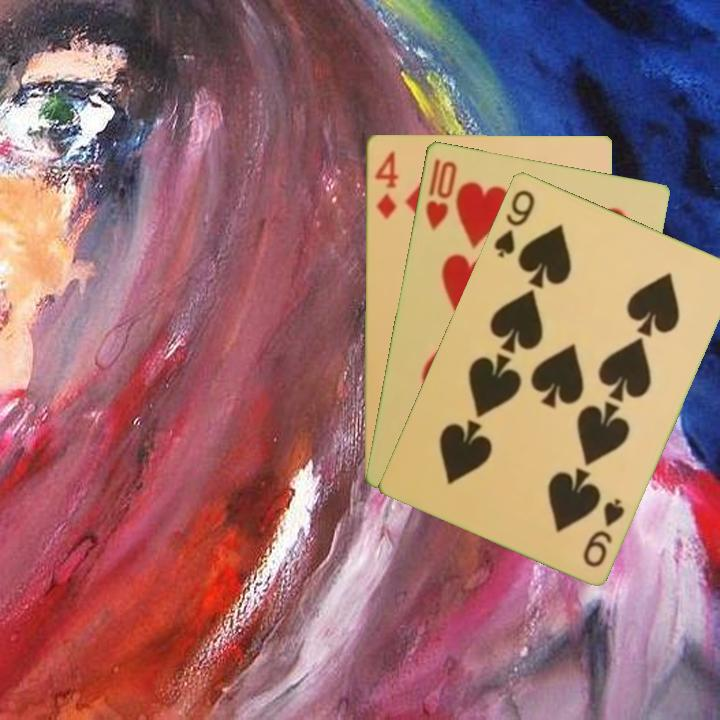10h: (421, 154, 460, 233)
4d: (371, 147, 401, 222)
9s: (579, 494, 628, 570), (490, 185, 538, 260)
